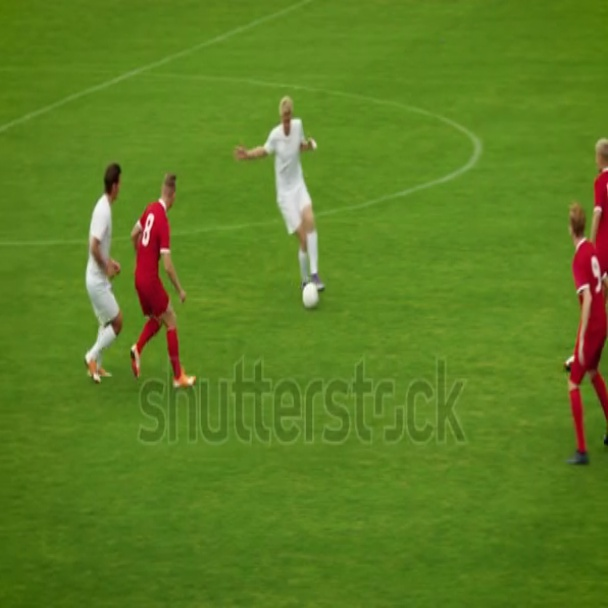ball: (303, 279, 320, 314)
